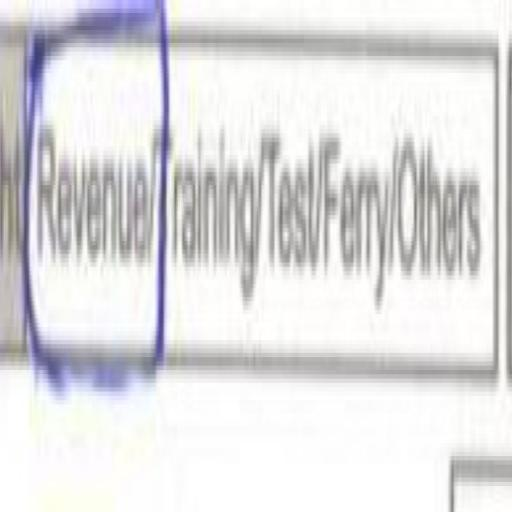check: (30, 0, 150, 512)
